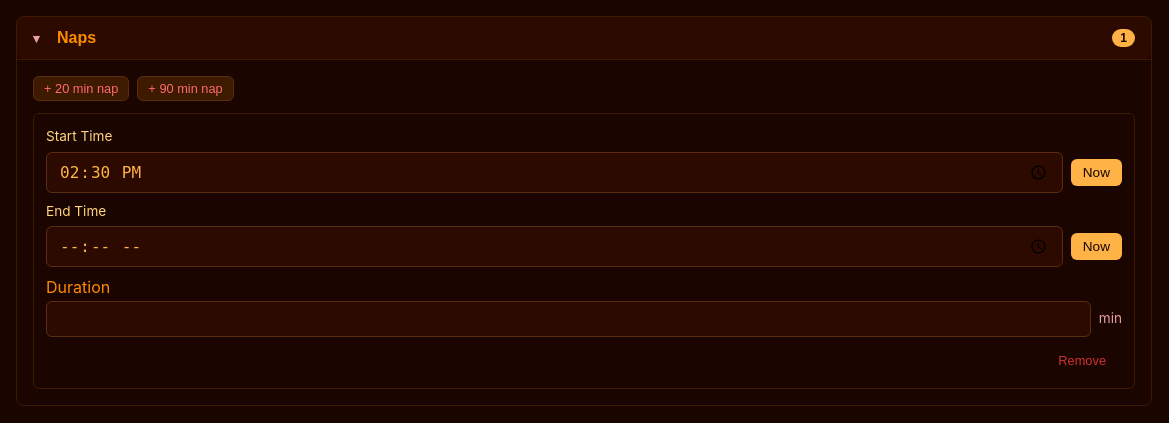
NapSection › rounds fractional durations instead of deriving :60 end times
Type "29.7" into the number field at (568, 319), box [46,301,1091,337]
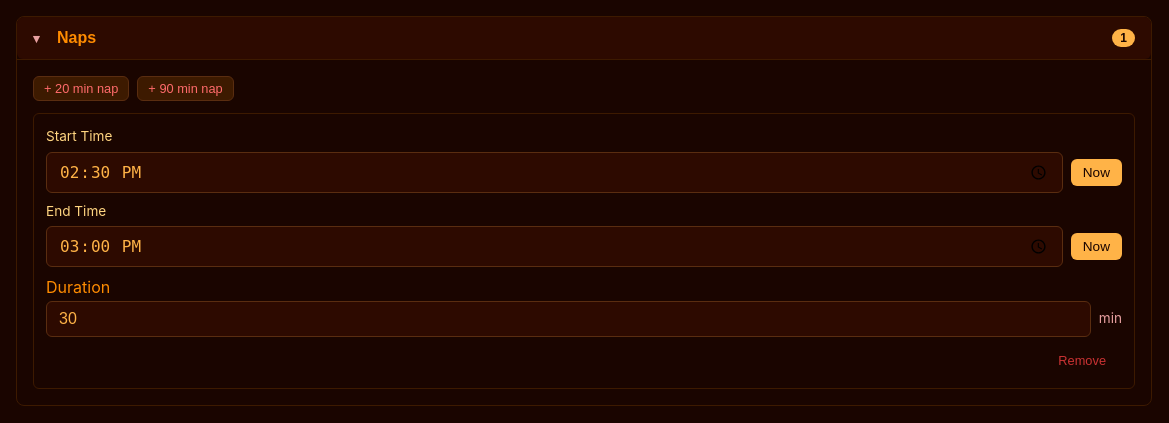
expect the number field holds "30": met, box [46,301,1091,337]
expect the time field below "End Time" holds "15:00": met, box [46,226,1063,267]
